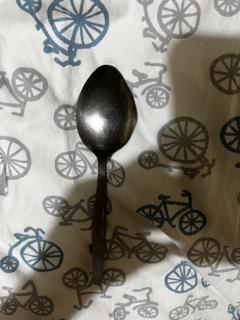spoon: (74, 62, 141, 288)
